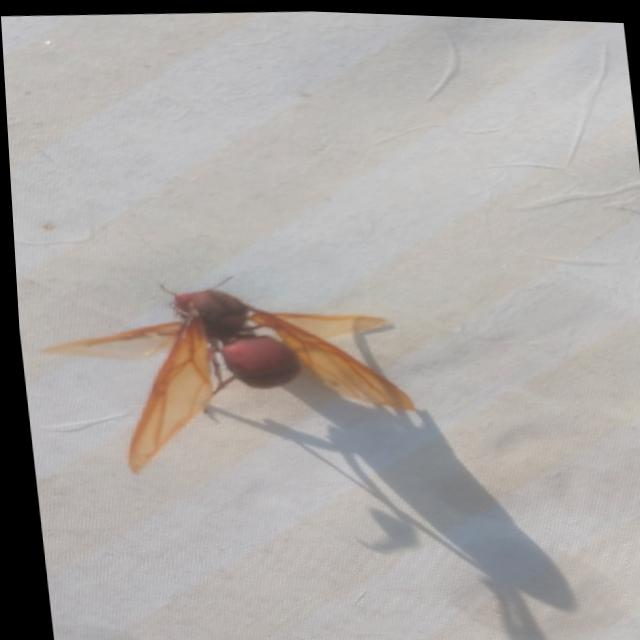Alive-Female-Dealate: (22, 257, 420, 487)
